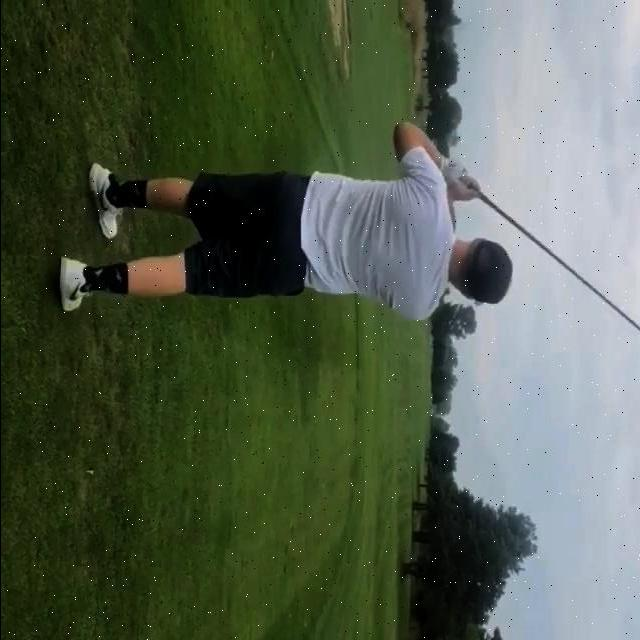golf club-handle: (448, 161, 640, 332)
